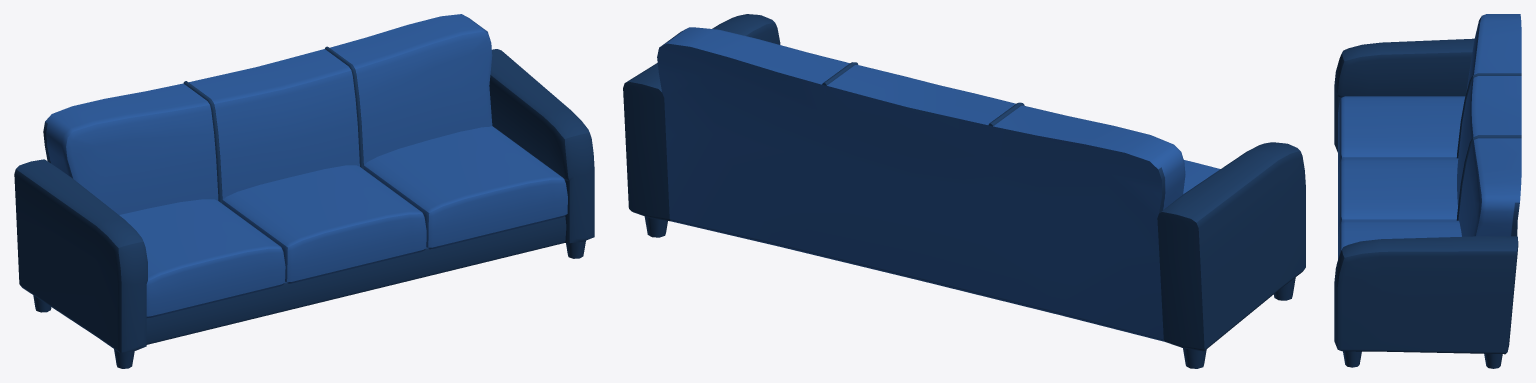
File: sofa blue.glb
The picture shows the model from 3 angles, left to right: view 1: azimuth 30°, elevation 25°; view 2: azimuth 150°, elevation 25°; view 3: azimuth 270°, elevation 25°; orthographic projection. The views are drawn at different scales.
Parts seen in each view (by area): view 1: Couch #21826; view 2: Couch #21826; view 3: Couch #21826.
Boxes of the visible parts, <box> form: Couch #21826: <box>14,14,594,368</box>; Couch #21826: <box>623,14,1305,368</box>; Couch #21826: <box>1334,14,1521,368</box>.
Size of the model in its own units: 2.5 by 0.8829 by 0.9203.
1 material, 1 textured.
